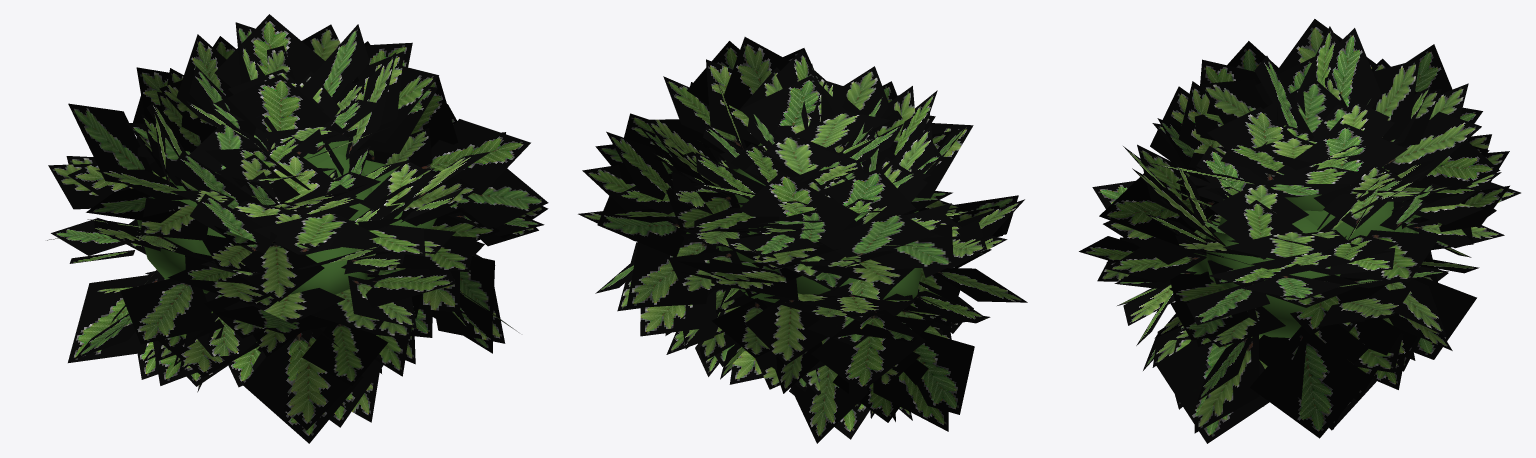
Rendered from bush.glb.
The picture shows the model from 3 angles, left to right: view 1: azimuth 30°, elevation 25°; view 2: azimuth 150°, elevation 25°; view 3: azimuth 270°, elevation 25°; orthographic projection. The views are drawn at different scales.
Parts seen in each view (by area): view 1: bush_leaves, bush_Leaf_Tree; view 2: bush_leaves, bush_Leaf_Tree; view 3: bush_leaves, bush_Leaf_Tree.
Part boxes in pixels (<box>): bush_leaves: <box>47,14,548,443</box>; bush_Leaf_Tree: <box>137,140,436,294</box>; bush_leaves: <box>578,37,1027,443</box>; bush_Leaf_Tree: <box>686,143,921,315</box>; bush_leaves: <box>1079,19,1520,443</box>; bush_Leaf_Tree: <box>1187,166,1403,337</box>.
Size of the model in its own units: 3.57 by 2.95 by 3.23.
2 materials, 1 textured.
